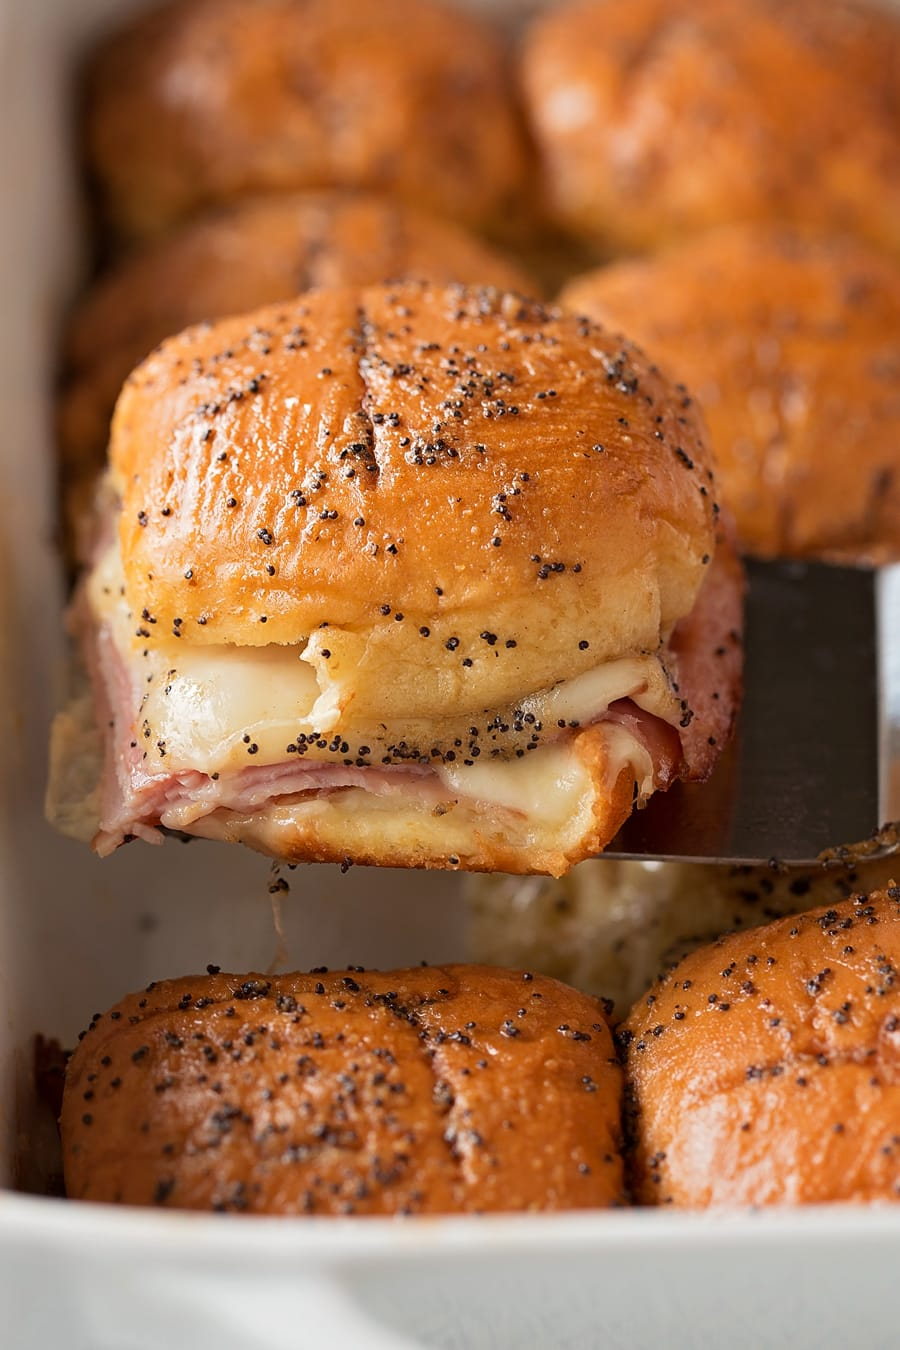hamburger_buns: (73, 327, 769, 910)
